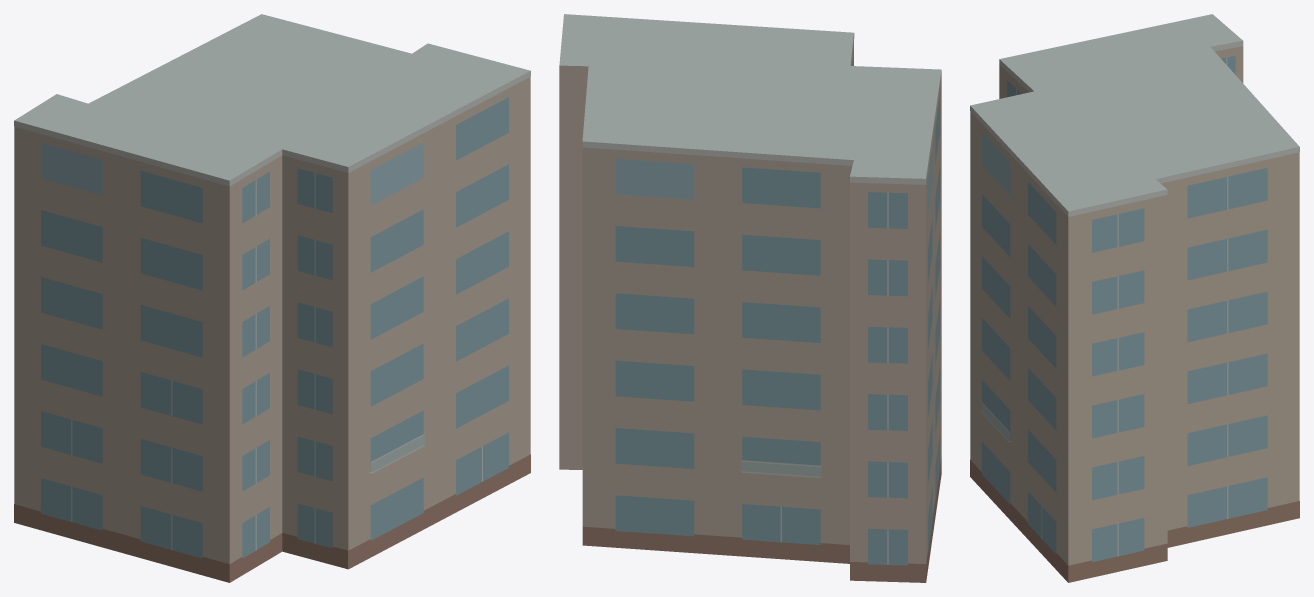
The model's file is survey-upis-32760469.glb.
3 views of the same model, side by side, from view 1: azimuth 30°, elevation 25°; view 2: azimuth 150°, elevation 25°; view 3: azimuth 270°, elevation 25° (orthographic). The views are drawn at different scales.
Parts seen in each view (by area): view 1: survey-upis-32760469.tmp; view 2: survey-upis-32760469.tmp; view 3: survey-upis-32760469.tmp.
Boxes of the visible parts, box(x1,y1,x2,y2) form: survey-upis-32760469.tmp: box(14, 14, 530, 582); survey-upis-32760469.tmp: box(559, 14, 941, 582); survey-upis-32760469.tmp: box(970, 14, 1299, 582).
Size of the model in its own units: 18.95 by 16.6 by 13.37.
